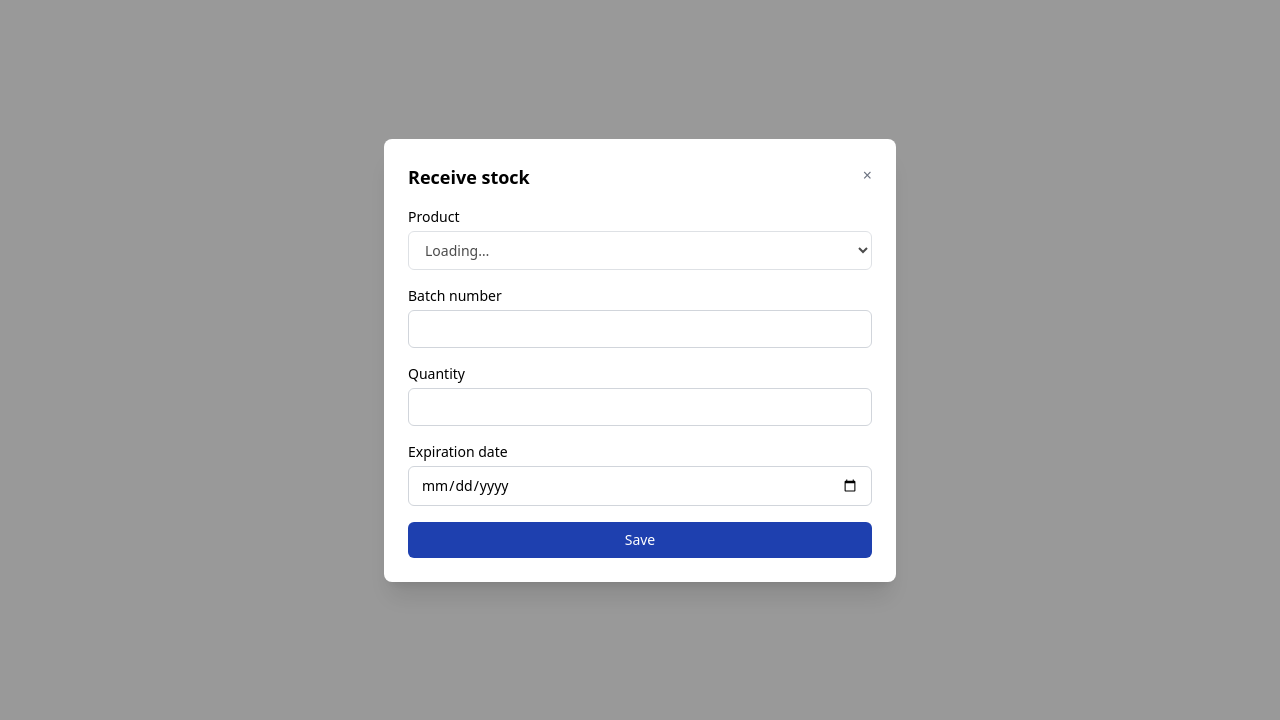
Test case: StockReceiptModal › requires every field
Click the button "Save": coordinates (640, 540) [408,522,872,558]
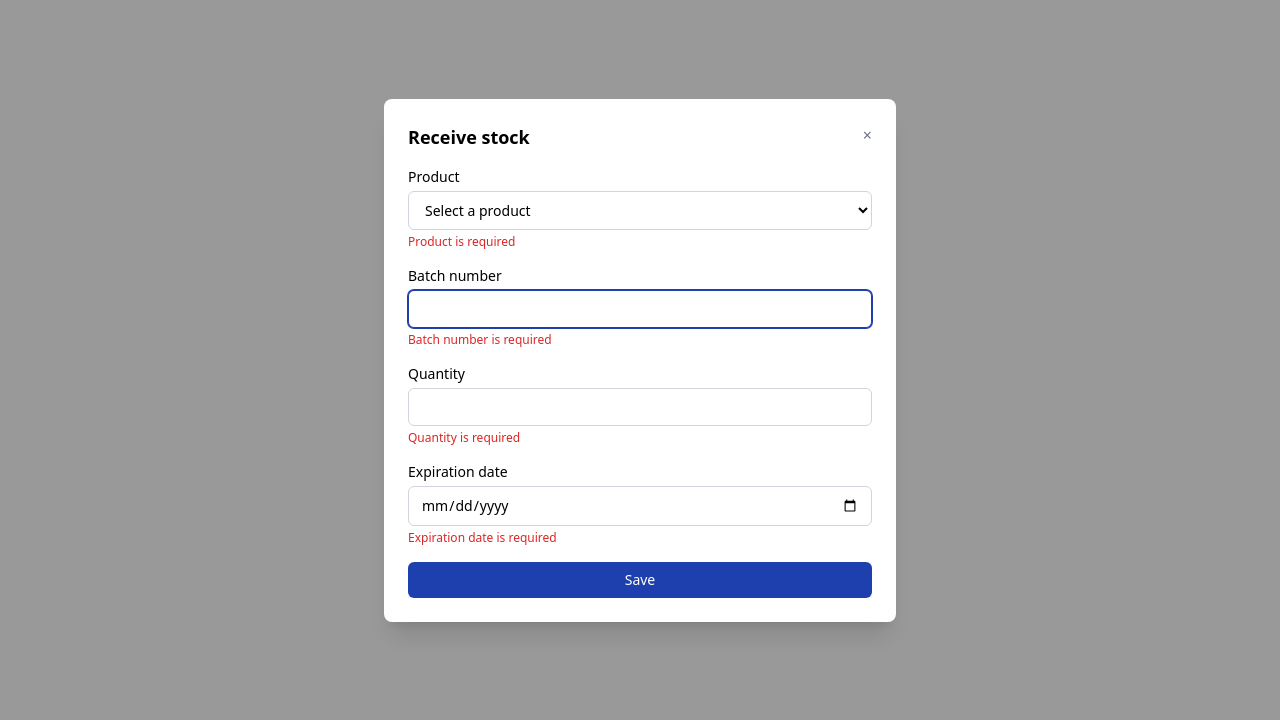
Check: the text "Batch number is required" is shown, box [408,330,552,348]
